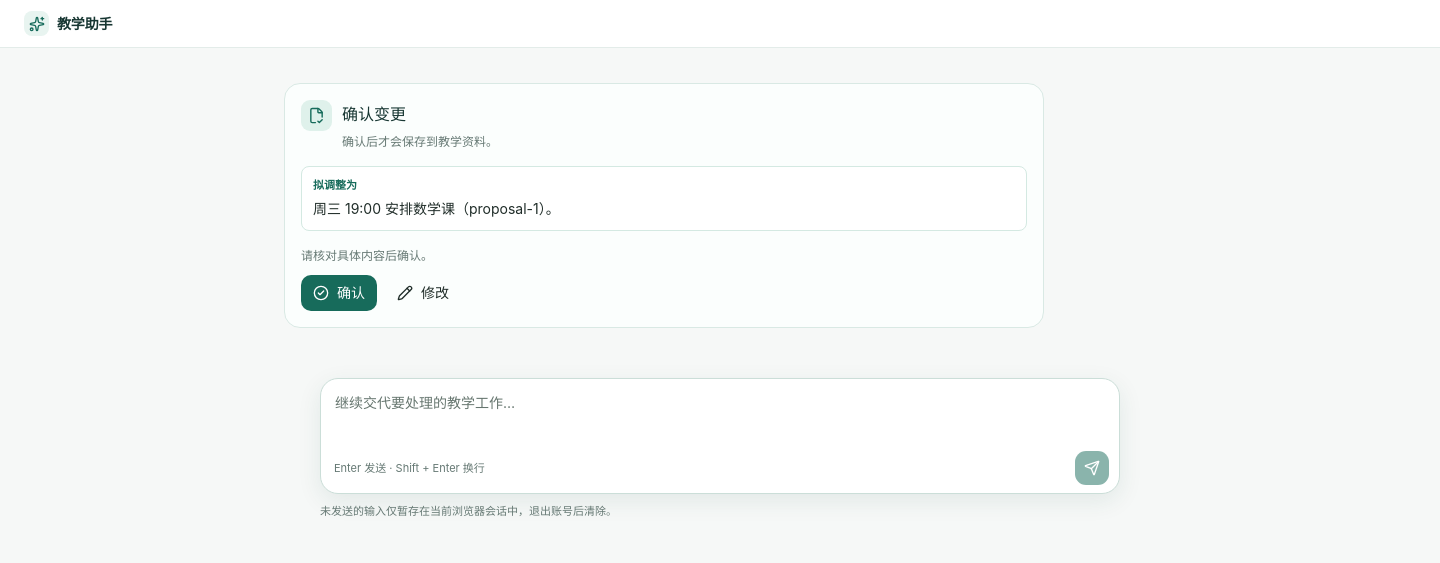
Scenario: confirmation modification flow › does not replace text already being written in the composer
Type "正在写的其他工作" into the text box named "交给教学助手的工作" at (722, 418), box [334, 388, 1109, 446]
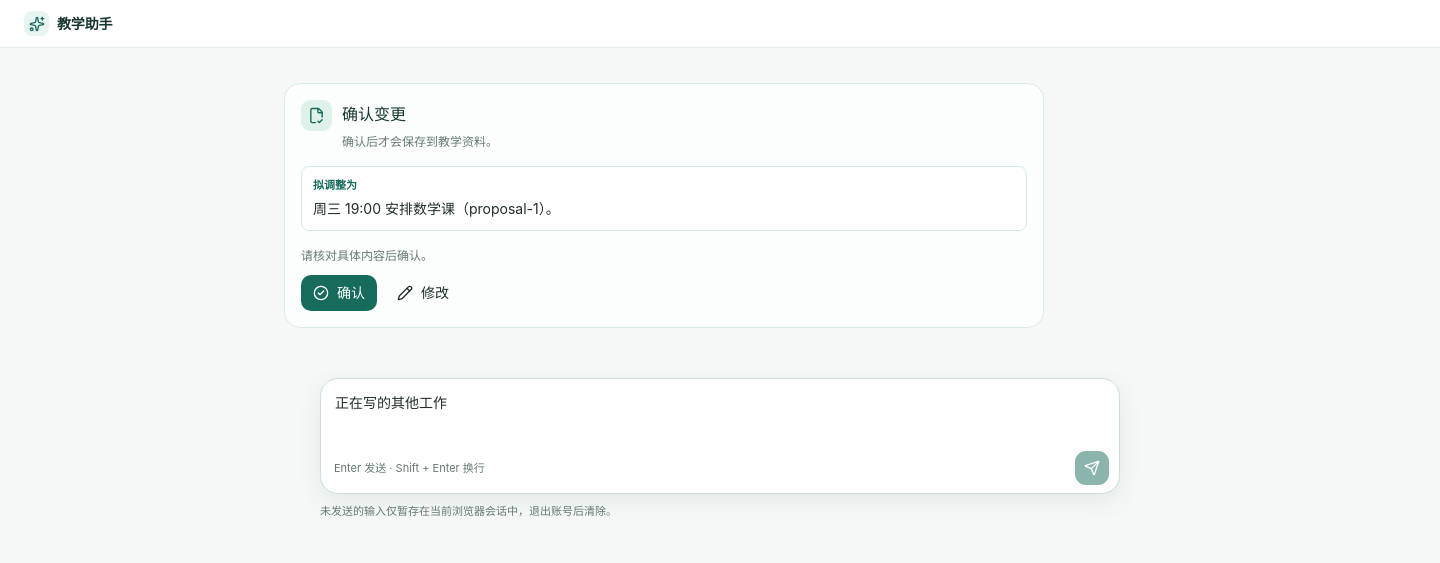
Click the button "修改" at (423, 294), box [385, 276, 461, 312]
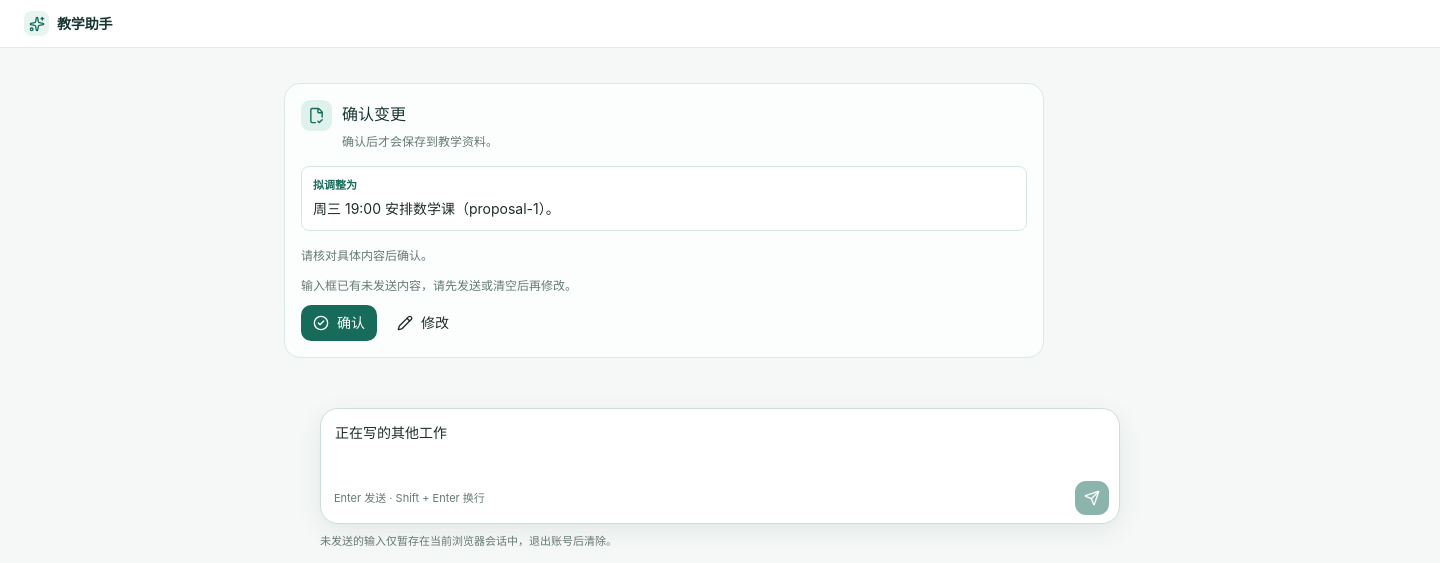
Now the text "输入框已有未发送内容，请先发送或清空后再修改。" is shown, box [301, 278, 577, 294]
